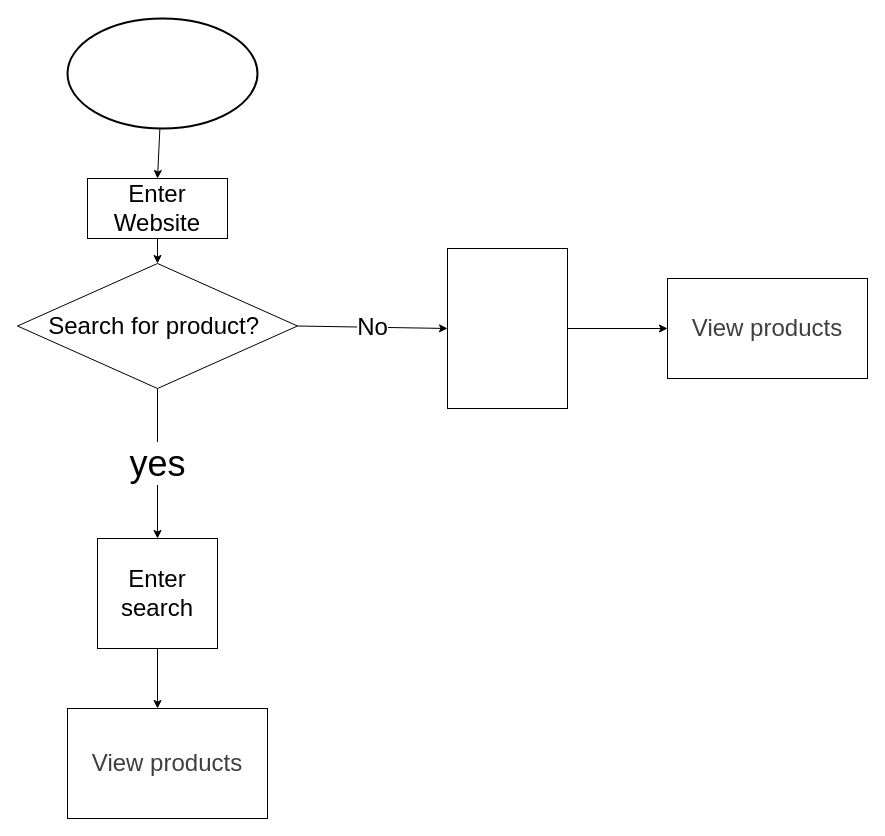
Some shapes in this 885 by 836 pixel diagram are drawn without their labels. Each missing label, with the centre of its shape:
"Explore homepage" belongs at (x=507, y=328).
"Start" belongs at (x=162, y=73).
